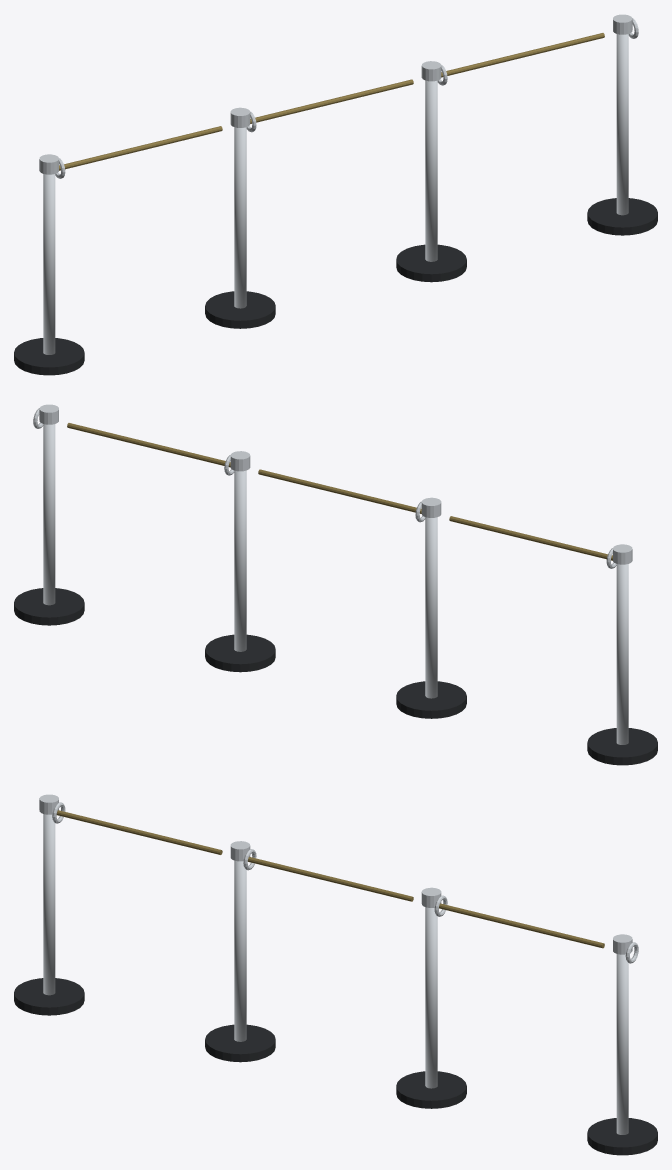
File: hm_bank_queue_poles_v2.obj
The picture shows the model from 3 angles, top to bottom: view 1: azimuth 30°, elevation 25°; view 2: azimuth 150°, elevation 25°; view 3: azimuth 330°, elevation 25°; orthographic projection.
Visible parts, largest first — view 1: ST_Pole.003, ST_Pole.001, ST_Pole.002, ST_Pole, ST_Base, ST_Base.003, ST_Base.002, ST_Base.001, ST_Rope, ST_Rope.002, ST_Rope.001; view 2: ST_Pole.003, ST_Pole.001, ST_Pole.002, ST_Pole, ST_Base, ST_Base.003, ST_Base.002, ST_Base.001, ST_Rope, ST_Rope.002, ST_Rope.001; view 3: ST_Pole.002, ST_Pole, ST_Pole.001, ST_Pole.003, ST_Base.003, ST_Base, ST_Base.001, ST_Base.002, ST_Rope.002, ST_Rope, ST_Rope.001.
Boxes of the visible parts, x1=… form: ST_Pole.003: x1=616, y1=34, x2=628, y2=215; ST_Pole.001: x1=234, y1=127, x2=246, y2=308; ST_Pole.002: x1=425, y1=80, x2=437, y2=261; ST_Pole: x1=43, y1=174, x2=55, y2=354; ST_Base: x1=14, y1=338, x2=84, y2=375; ST_Base.003: x1=587, y1=198, x2=657, y2=235; ST_Base.002: x1=396, y1=244, x2=466, y2=282; ST_Base.001: x1=205, y1=291, x2=275, y2=328; ST_Rope: x1=59, y1=126, x2=222, y2=170; ST_Rope.002: x1=441, y1=33, x2=604, y2=77; ST_Rope.001: x1=250, y1=79, x2=413, y2=123; ST_Pole.003: x1=43, y1=424, x2=55, y2=605; ST_Pole.001: x1=425, y1=517, x2=437, y2=698; ST_Pole.002: x1=234, y1=470, x2=246, y2=651; ST_Pole: x1=616, y1=564, x2=628, y2=744; ST_Base: x1=587, y1=728, x2=657, y2=765; ST_Base.003: x1=14, y1=588, x2=84, y2=625; ST_Base.002: x1=205, y1=634, x2=275, y2=672; ST_Base.001: x1=396, y1=681, x2=466, y2=718; ST_Rope: x1=449, y1=516, x2=612, y2=560; ST_Rope.002: x1=67, y1=423, x2=230, y2=467; ST_Rope.001: x1=258, y1=469, x2=421, y2=513; ST_Pole.002: x1=425, y1=907, x2=437, y2=1088; ST_Pole: x1=43, y1=814, x2=55, y2=995; ST_Pole.001: x1=234, y1=860, x2=246, y2=1041; ST_Pole.003: x1=616, y1=954, x2=628, y2=1134; ST_Base.003: x1=587, y1=1118, x2=657, y2=1155; ST_Base: x1=14, y1=978, x2=84, y2=1015; ST_Base.001: x1=205, y1=1024, x2=275, y2=1062; ST_Base.002: x1=396, y1=1071, x2=466, y2=1108; ST_Rope.002: x1=439, y1=903, x2=604, y2=948; ST_Rope: x1=56, y1=810, x2=222, y2=854; ST_Rope.001: x1=248, y1=857, x2=413, y2=901.
Bounding box in the file's own units: 3.32 × 1.01 × 0.32.
